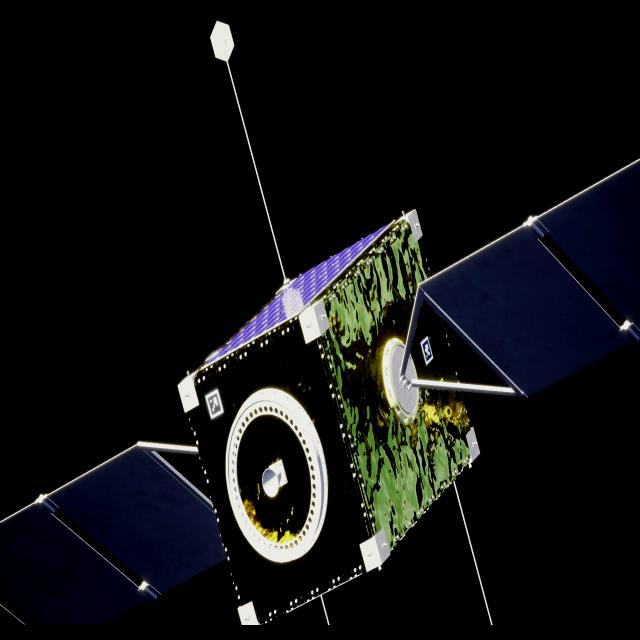satellite: (0, 159, 640, 630)
